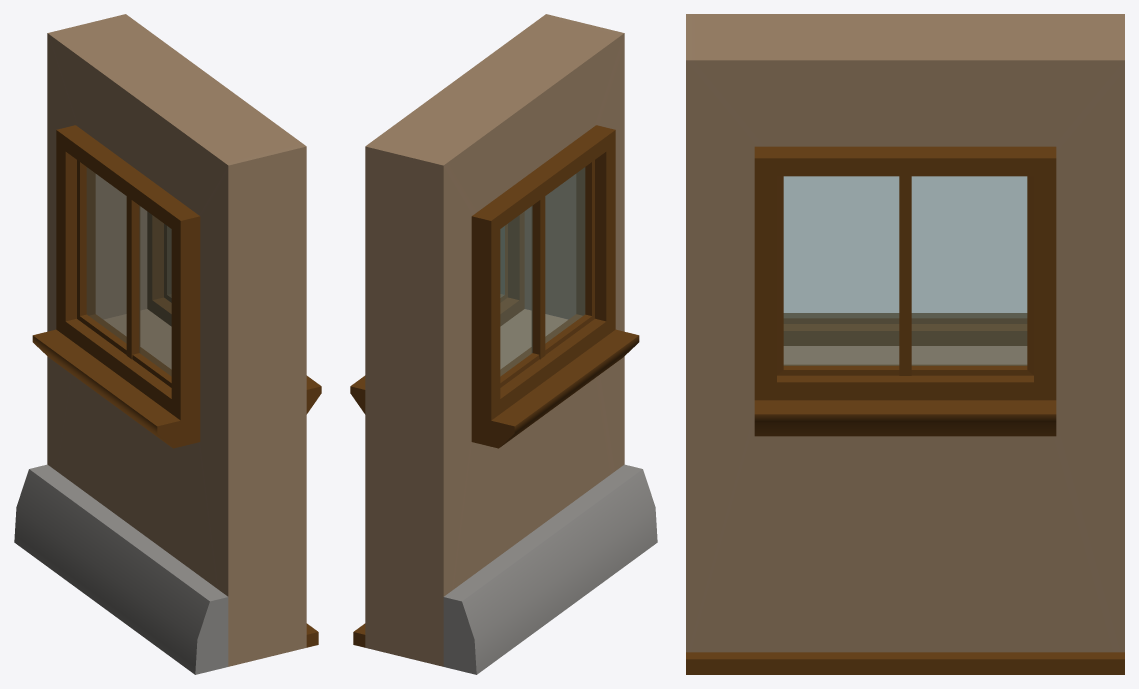
Rendered from SM_Wall_Window_NoTop_v2.fbx.
The picture shows the model from 3 angles, left to right: view 1: azimuth 30°, elevation 25°; view 2: azimuth 150°, elevation 25°; view 3: azimuth 270°, elevation 25°; orthographic projection. The views are drawn at different scales.
Parts seen in each view (by area): view 1: SM_Wall_Window_NoTop_v2, SM_Window; view 2: SM_Wall_Window_NoTop_v2, SM_Window; view 3: SM_Wall_Window_NoTop_v2, SM_Window.
Part boxes in pixels (x1=…): SM_Wall_Window_NoTop_v2: x1=14, y1=14, x2=321, y2=674; SM_Window: x1=87, y1=167, x2=171, y2=375; SM_Wall_Window_NoTop_v2: x1=350, y1=14, x2=657, y2=674; SM_Window: x1=500, y1=167, x2=584, y2=375; SM_Wall_Window_NoTop_v2: x1=686, y1=14, x2=1124, y2=674; SM_Window: x1=783, y1=176, x2=1027, y2=365.
Bounding box in the file's own units: 105 × 306 × 200.
